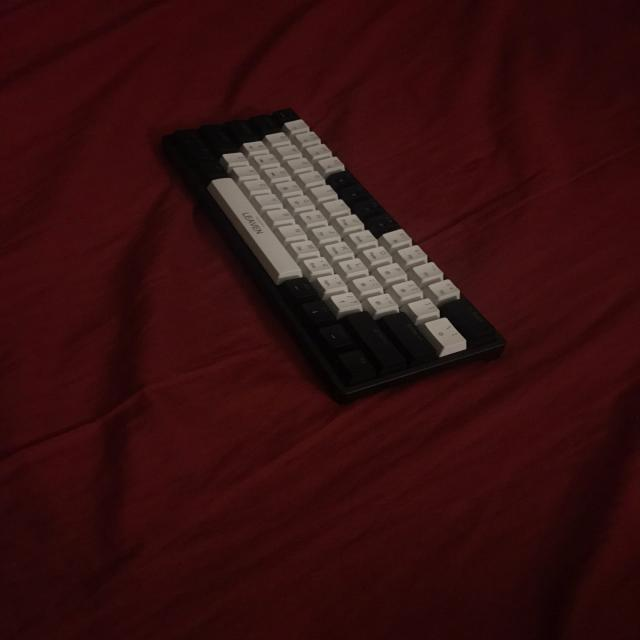-mouse-: (151, 106, 515, 397)
